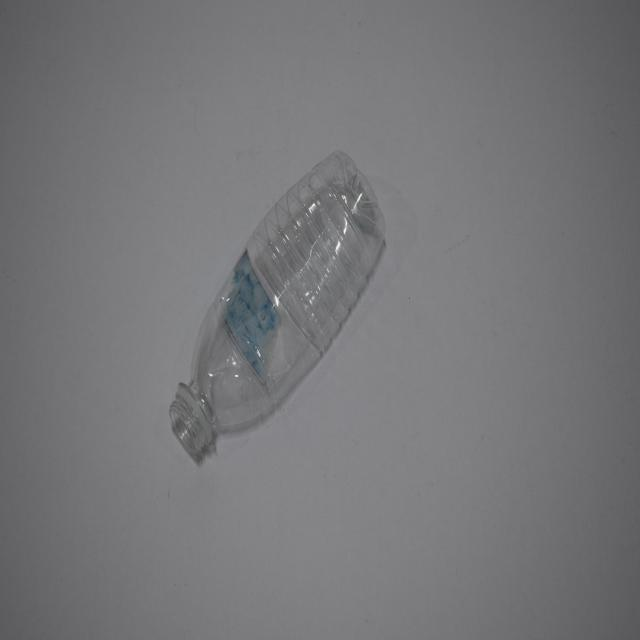bottle: (166, 130, 396, 458)
